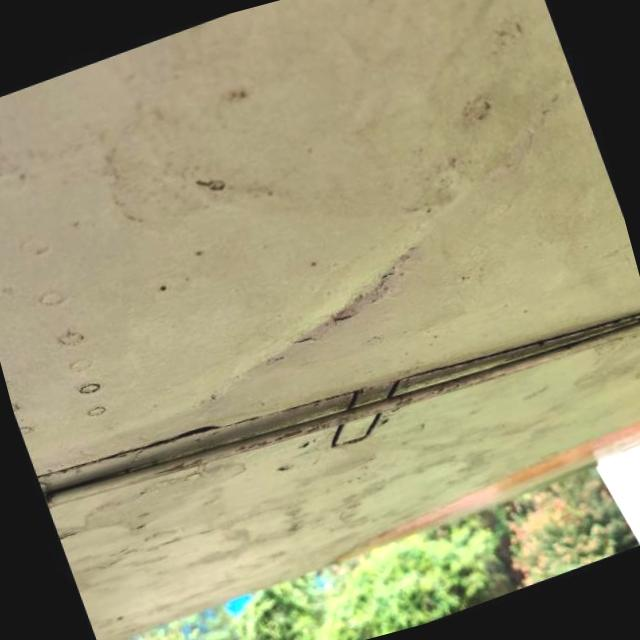dent: (202, 217, 454, 394)
